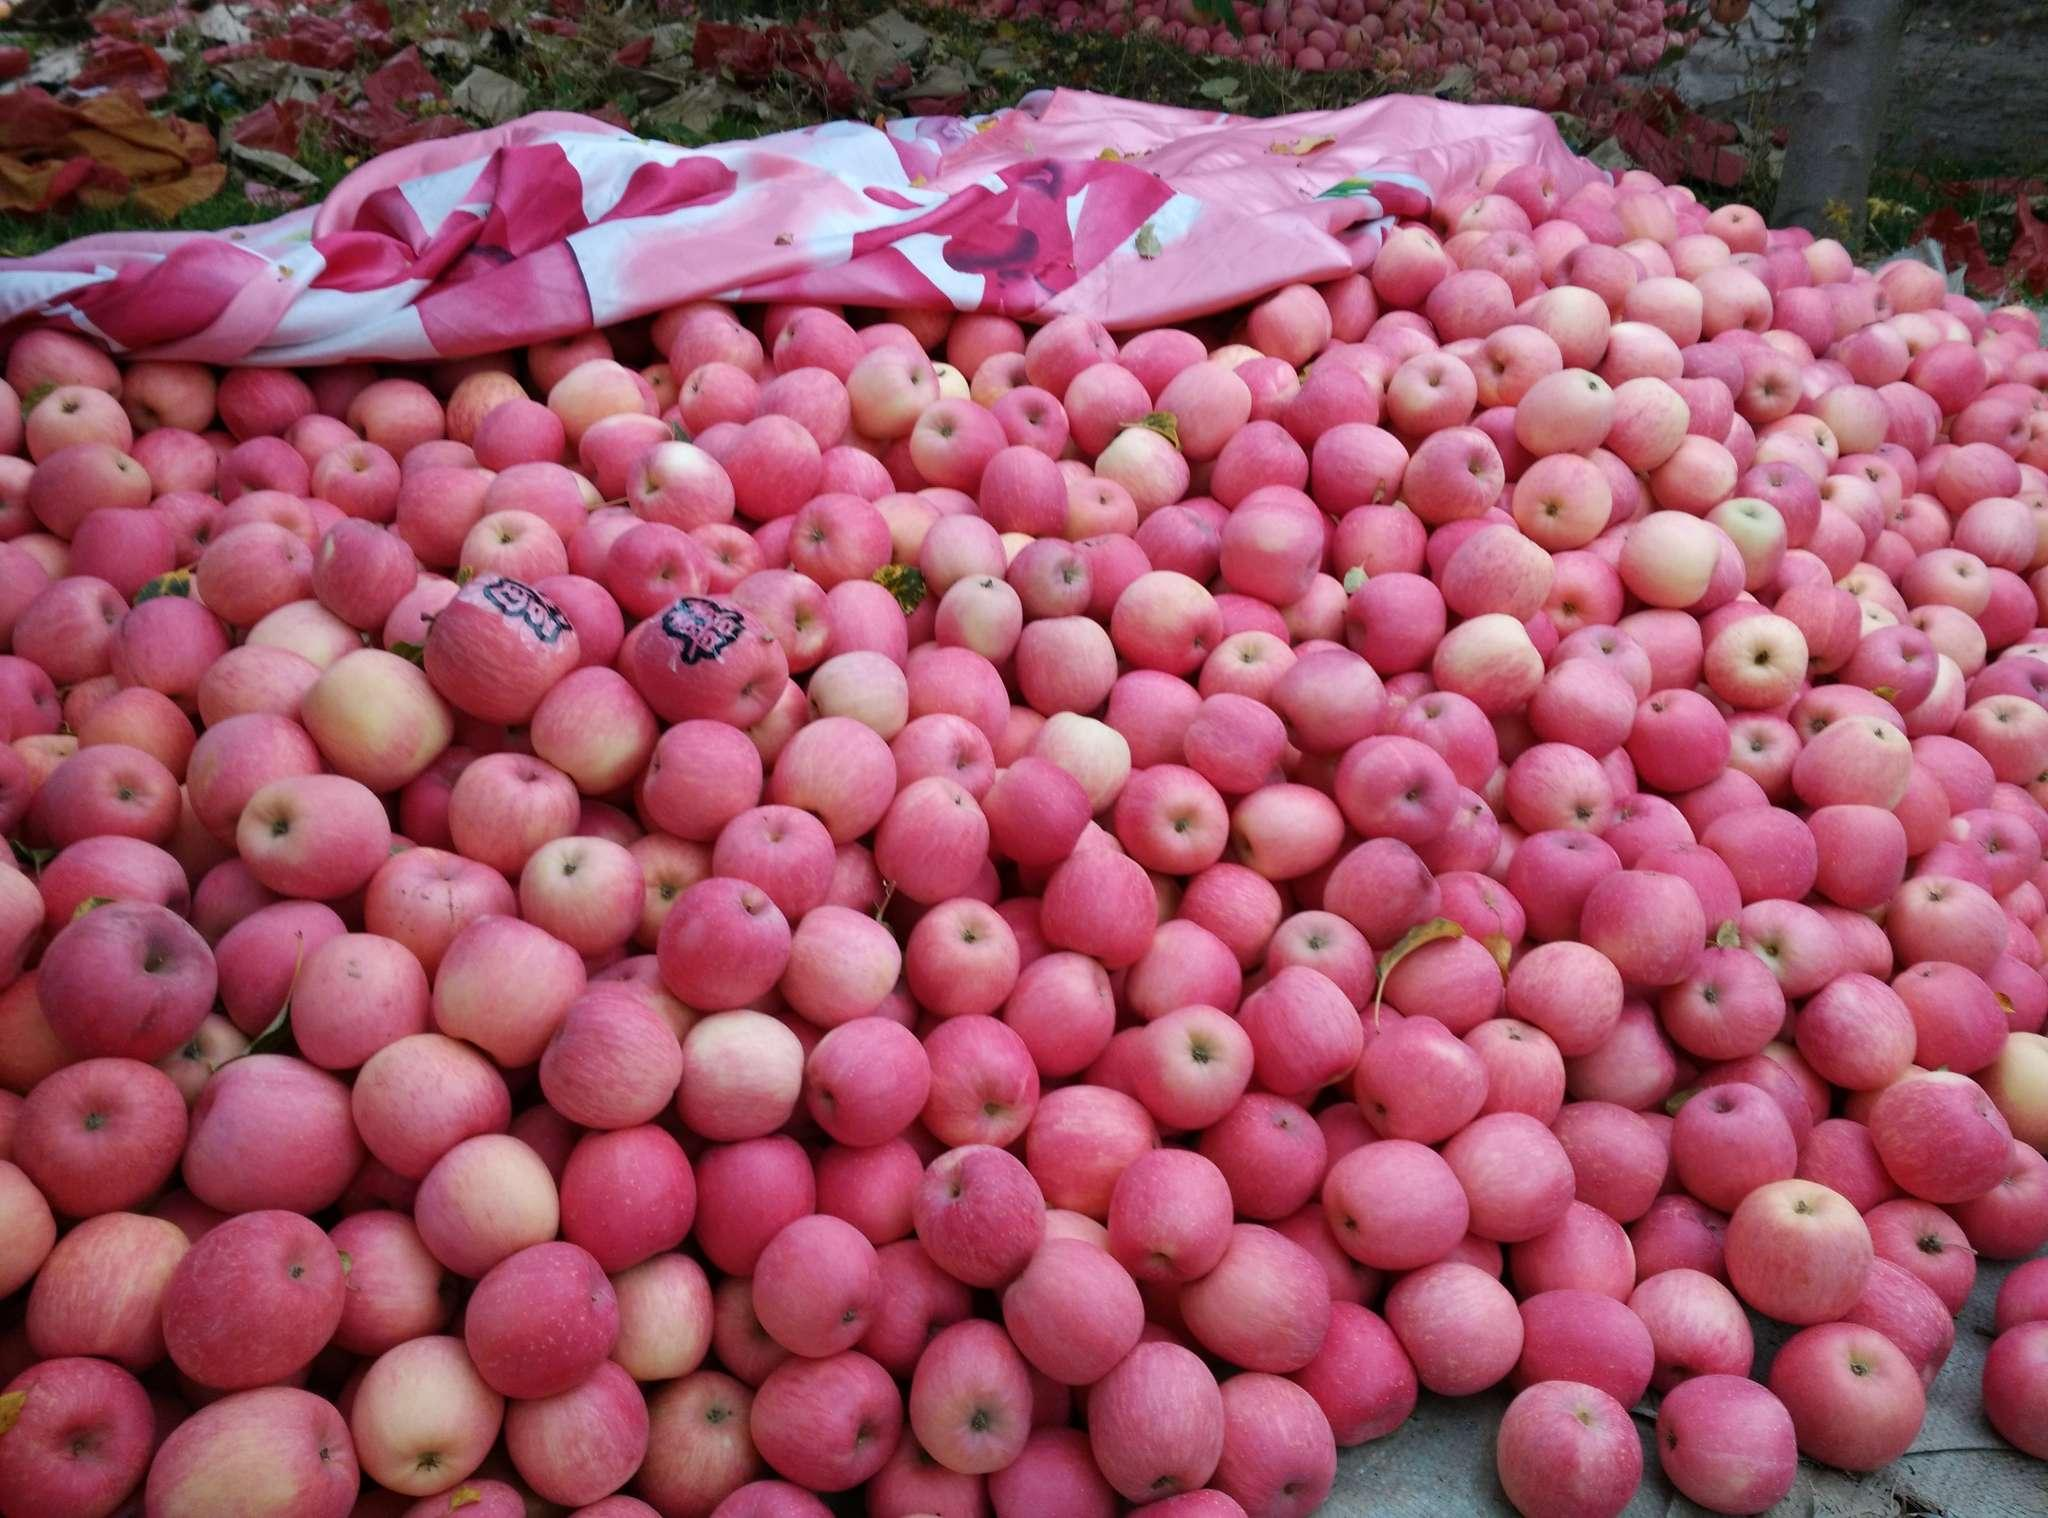apple: (161, 1210, 351, 1386), (182, 1054, 362, 1220), (145, 1382, 362, 1518), (21, 1054, 199, 1217), (38, 901, 217, 1064), (464, 1241, 630, 1398), (344, 1330, 502, 1489), (347, 1331, 504, 1492), (1081, 1333, 1230, 1496), (22, 1210, 179, 1360), (2, 1359, 156, 1508), (752, 1344, 905, 1494), (429, 915, 588, 1059), (418, 577, 579, 719), (630, 596, 791, 737), (347, 1030, 505, 1172), (537, 985, 695, 1127), (1181, 1218, 1329, 1363), (908, 1315, 1038, 1481), (744, 1213, 889, 1355), (1723, 1175, 1873, 1312), (1492, 1379, 1642, 1516), (504, 1362, 647, 1504), (559, 1127, 703, 1269), (1651, 1376, 1799, 1513), (1320, 1138, 1474, 1269), (287, 931, 432, 1068), (916, 1138, 1049, 1288), (1108, 1138, 1238, 1290), (414, 1138, 566, 1268), (1500, 1280, 1654, 1406), (1862, 1065, 1995, 1210), (237, 773, 395, 895), (1434, 1116, 1579, 1247), (1380, 1268, 1525, 1398), (300, 654, 446, 781), (795, 1011, 929, 1143), (692, 1137, 824, 1269), (1214, 1374, 1337, 1516), (657, 877, 787, 1009), (668, 1013, 800, 1143), (190, 714, 324, 842), (29, 740, 183, 850), (1359, 1013, 1489, 1142), (773, 714, 900, 840), (531, 665, 658, 791), (1543, 1097, 1670, 1218), (1673, 1084, 1801, 1205), (1332, 730, 1461, 850), (916, 1019, 1038, 1143), (900, 896, 1022, 1021), (783, 903, 904, 1027), (1243, 965, 1363, 1091), (998, 949, 1117, 1075), (1133, 1003, 1253, 1129), (642, 714, 760, 836), (1584, 869, 1701, 989), (1508, 938, 1622, 1059), (1667, 938, 1782, 1059), (1803, 973, 1917, 1092), (1108, 762, 1234, 871), (304, 513, 414, 635), (1104, 568, 1226, 674), (104, 596, 233, 694), (982, 757, 1095, 867), (1272, 646, 1391, 749), (1793, 710, 1916, 810), (716, 800, 832, 906), (1699, 802, 1817, 906), (1889, 871, 2007, 971), (1887, 966, 2005, 1067), (1629, 681, 1732, 792), (18, 579, 135, 674), (194, 520, 311, 615), (1525, 657, 1642, 753), (1430, 608, 1544, 703), (1439, 525, 1556, 619), (1179, 694, 1286, 796), (1505, 741, 1614, 840), (1804, 804, 1913, 903), (1702, 615, 1811, 714), (1010, 611, 1117, 708), (1622, 507, 1720, 609), (905, 392, 1009, 488), (609, 523, 712, 619), (725, 415, 821, 517), (791, 490, 893, 585), (972, 443, 1074, 539), (931, 569, 1031, 662), (1222, 510, 1323, 603), (1409, 426, 1509, 518), (1516, 368, 1614, 461), (1512, 450, 1611, 542), (454, 505, 571, 584), (1312, 415, 1410, 505), (1092, 426, 1194, 512), (1949, 797, 2038, 895), (1959, 689, 2048, 786), (622, 442, 728, 521), (1772, 580, 1866, 667), (1849, 617, 1941, 703), (1387, 349, 1474, 434)
